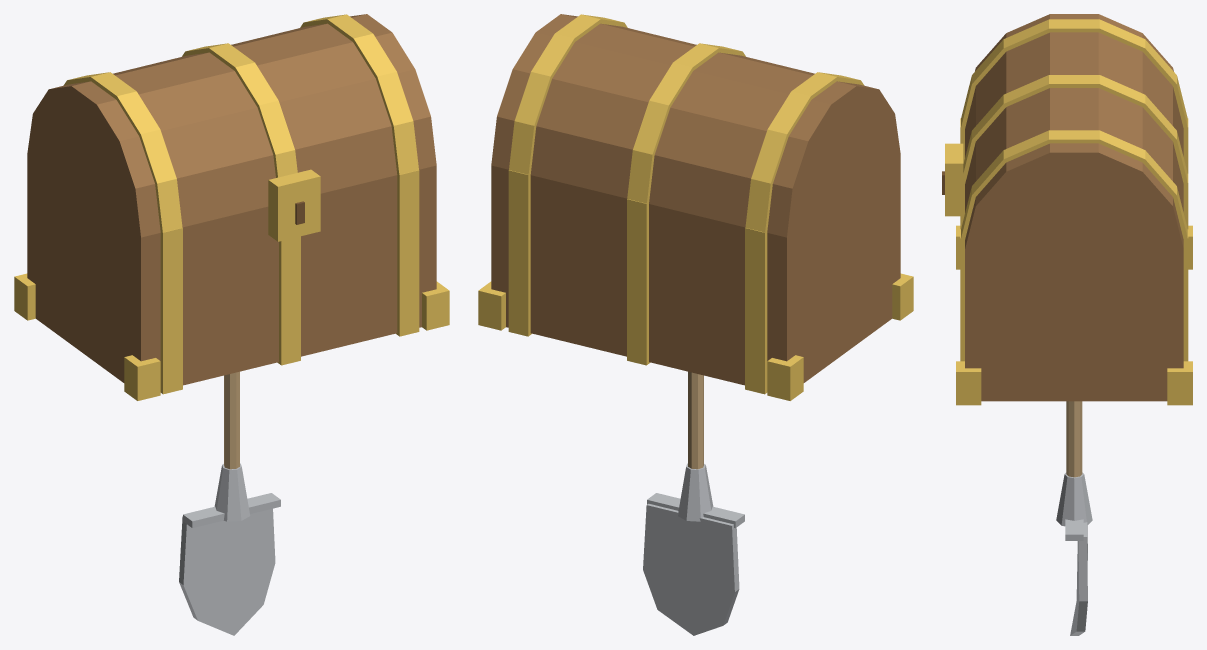
Rendered from treasure.glb.
3 renders of one model, left to right at view 1: azimuth 30°, elevation 25°; view 2: azimuth 150°, elevation 25°; view 3: azimuth 270°, elevation 25°, orthographic. The views are drawn at different scales.
Visible parts, largest first — view 1: chest_base, chest_lid, shovel; view 2: chest_base, chest_lid, shovel; view 3: chest_lid, chest_base, shovel.
Part boxes in pixels (x1,y1,x2,y2): chest_base: (14, 154, 449, 400); chest_lid: (27, 14, 436, 241); shovel: (179, 371, 280, 635); chest_base: (478, 154, 913, 400); chest_lid: (491, 14, 900, 237); shovel: (643, 371, 744, 635); chest_lid: (942, 14, 1187, 249); chest_base: (956, 118, 1192, 405); shovel: (1056, 401, 1092, 635).
Size of the model in its own units: 0.95 by 1.68 by 0.688.
